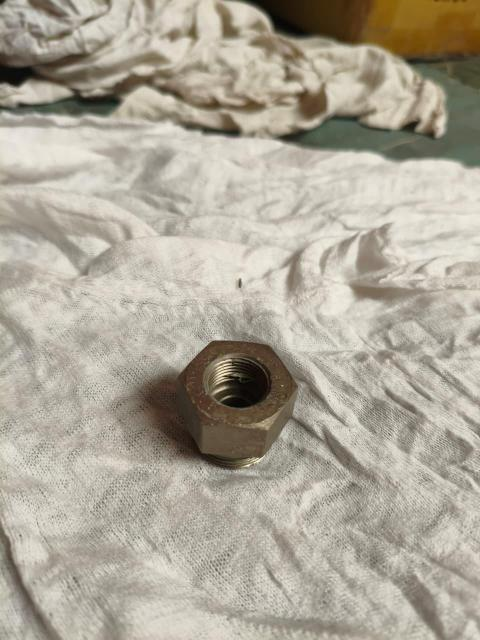Metal: (177, 333, 300, 472)
